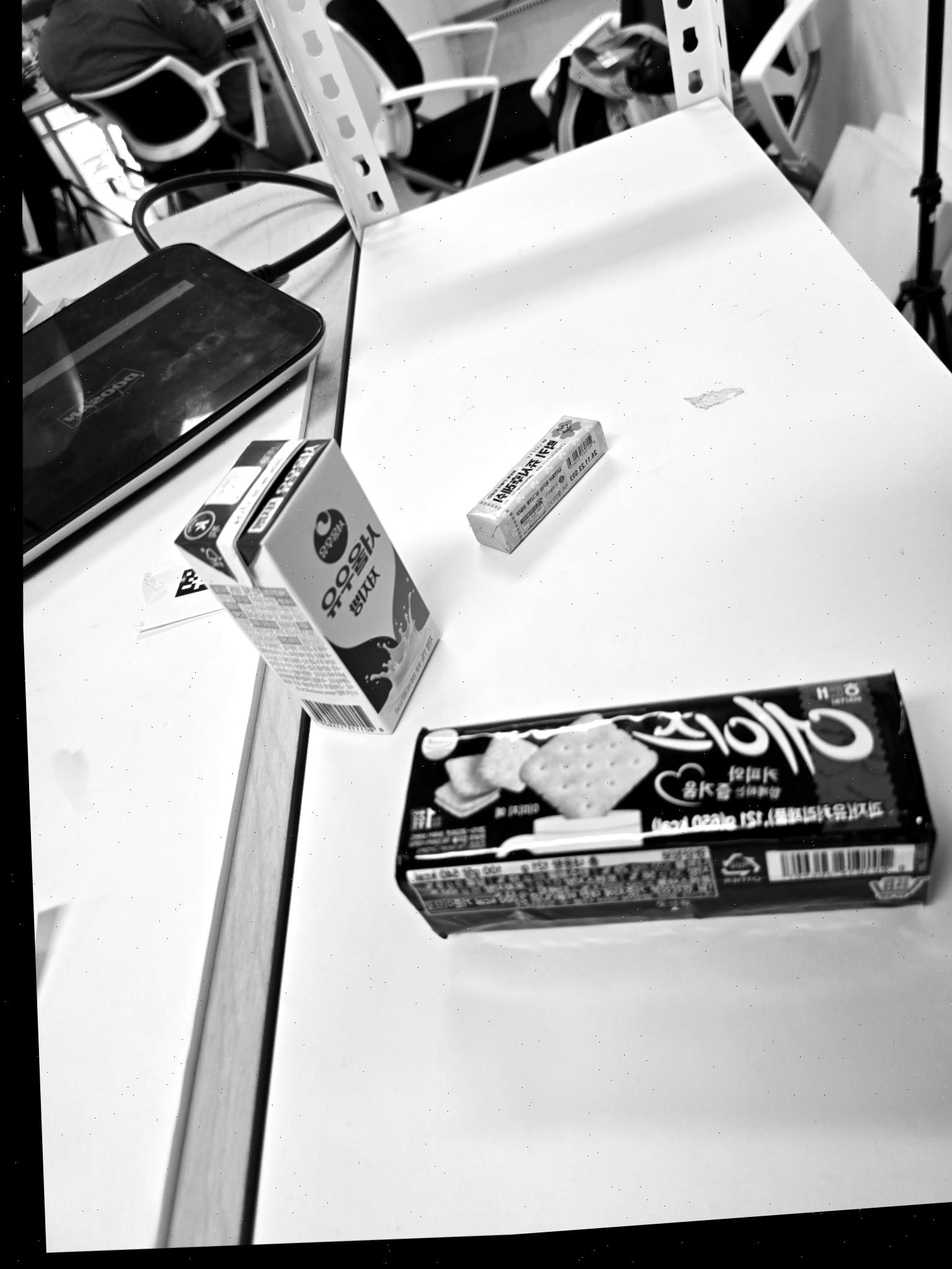cracker_ace: (396, 673, 935, 938)
gum_yellow: (468, 416, 607, 553)
milk_blue: (176, 439, 439, 734)
